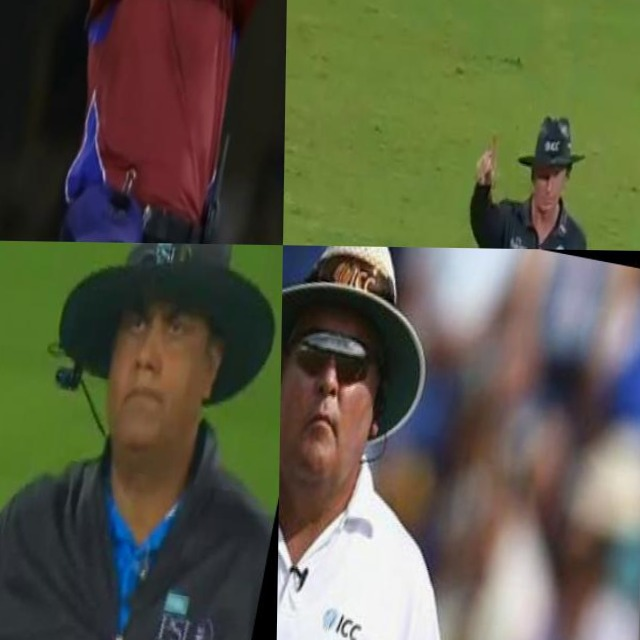No_Action: (277, 245, 583, 640)
No_Ball: (0, 240, 283, 640)
Out: (414, 90, 630, 251)
Six: (11, 0, 287, 245)
